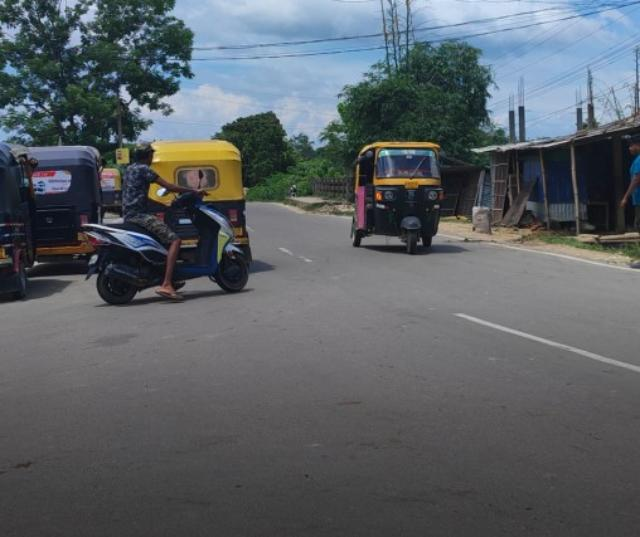motorcycle: (84, 139, 259, 301)
withoutHelmet: (130, 142, 155, 167)
